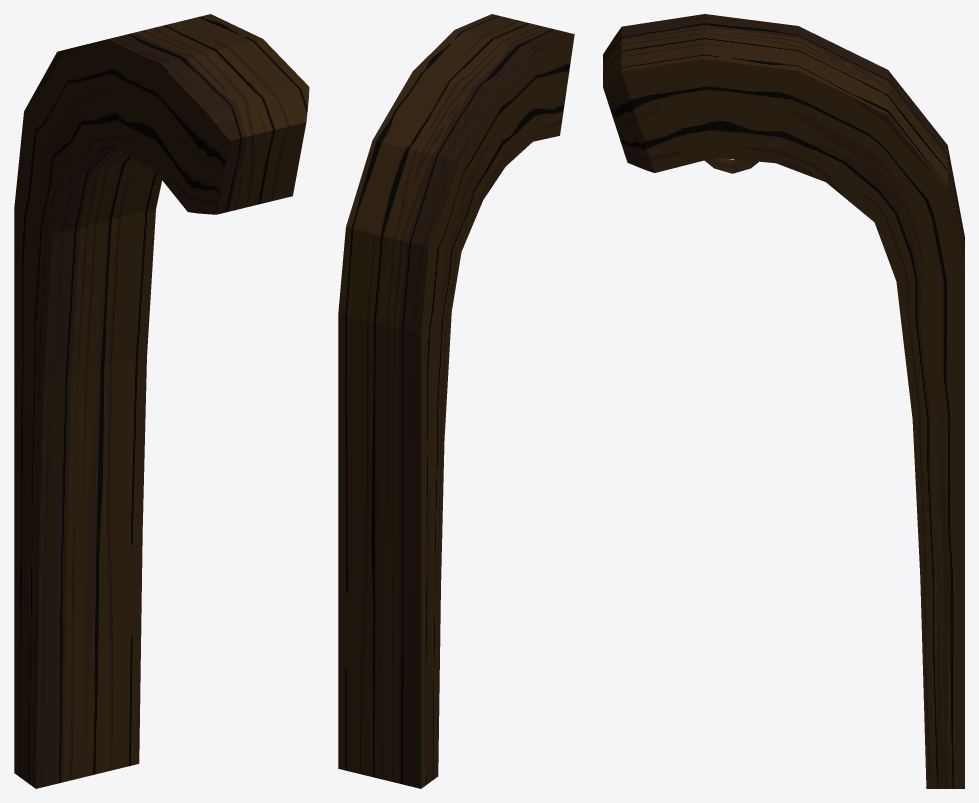
Rendered from Handle.fbx.
3 renders of one model, left to right at view 1: azimuth 30°, elevation 25°; view 2: azimuth 150°, elevation 25°; view 3: azimuth 270°, elevation 25°, orthographic. The views are drawn at different scales.
Visible parts, largest first — view 1: Handle; view 2: Handle; view 3: Handle.
Boxes of the visible parts, x1,y1,x2,y2 form: Handle: (14,14,309,788); Handle: (338,14,574,788); Handle: (603,14,964,788).
Size of the model in its own units: 0.1519 by 0.5145 by 1.15.
Materials: 1 (1 with a texture image).
